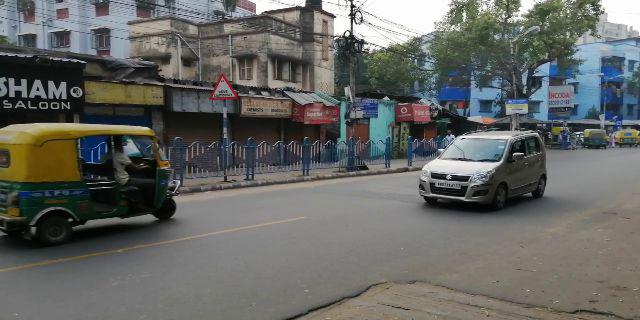Autorickshaw: (6, 124, 182, 227)
Car: (421, 130, 551, 205)
